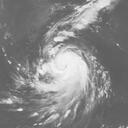cyclone: (33, 45, 90, 106)
